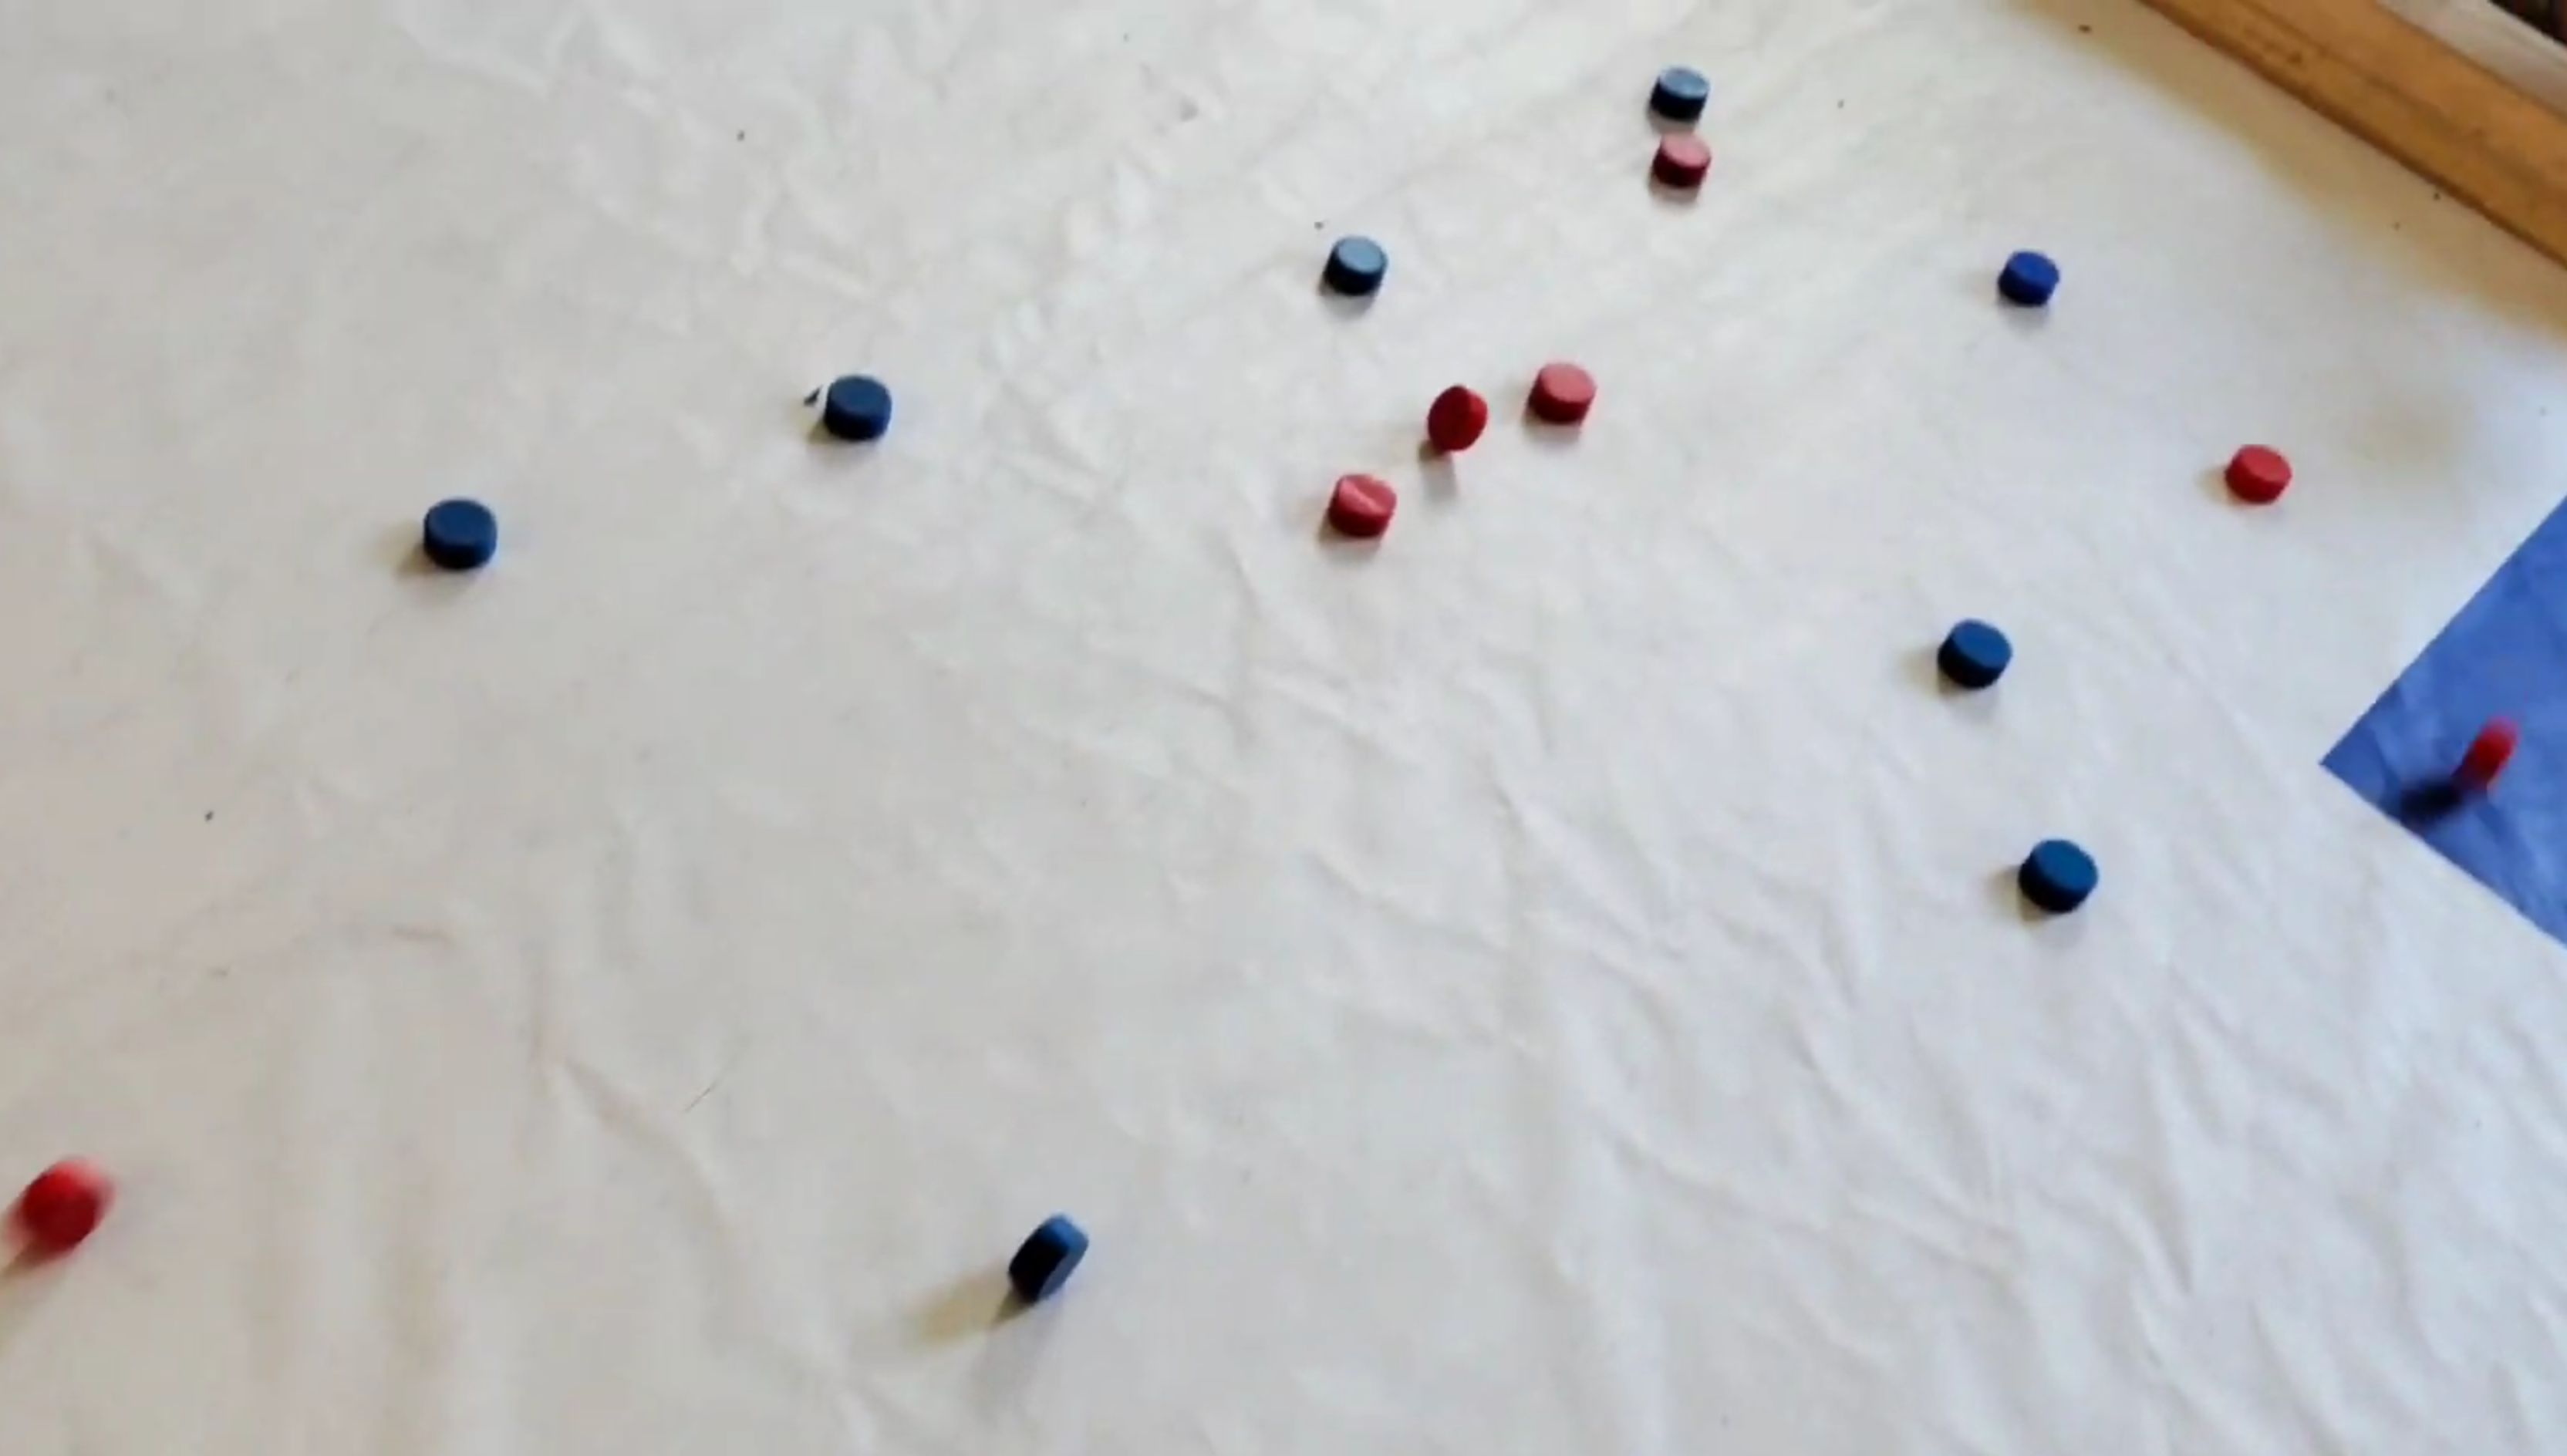puck: (14, 1163, 102, 1248), (1007, 1216, 1086, 1303), (421, 495, 497, 573), (2020, 837, 2098, 913), (1943, 620, 2012, 693), (823, 375, 892, 442), (1329, 474, 1398, 536), (1428, 384, 1490, 451), (1530, 360, 1597, 421), (2225, 444, 2292, 502), (1326, 234, 1388, 296), (2463, 721, 2514, 790), (1999, 250, 2059, 307), (1652, 67, 1708, 120), (1654, 132, 1710, 185)
